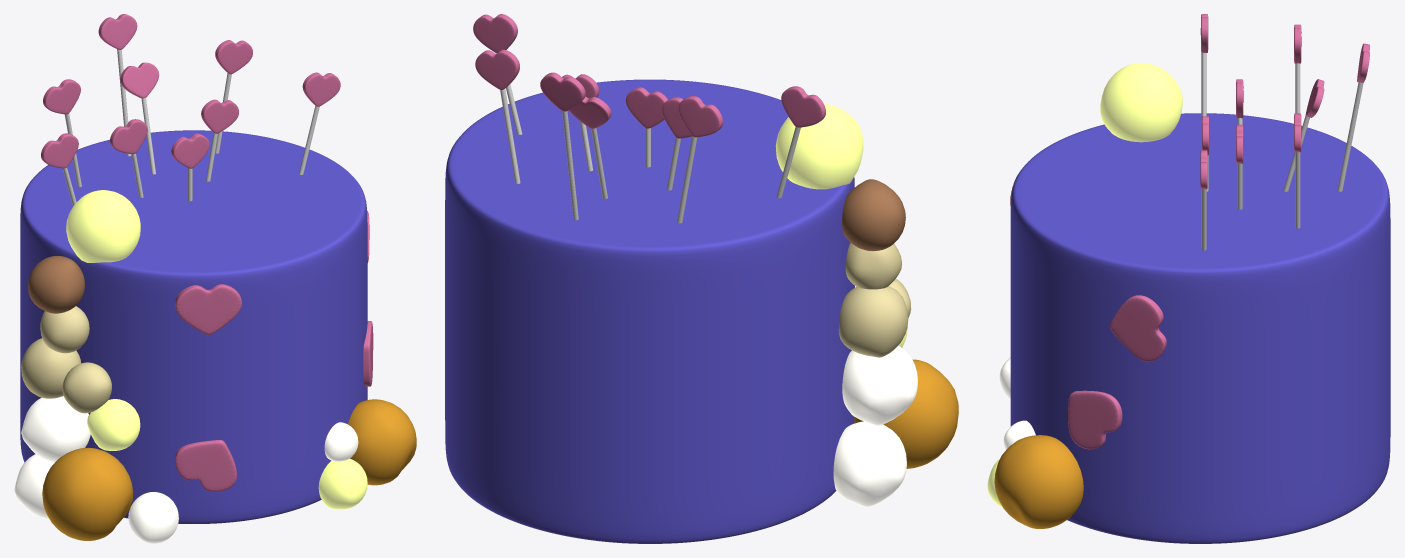
The model's file is Cake_Layer_1_Purple_Topper1_Hearts_NoDrip.glb.
The picture shows the model from 3 angles, left to right: view 1: azimuth 30°, elevation 25°; view 2: azimuth 150°, elevation 25°; view 3: azimuth 270°, elevation 25°; orthographic projection. The views are drawn at different scales.
Parts seen in each view (by area): view 1: Circle.002, Sphere, Sphere.015, Sphere.026, Sphere.002, Sphere.006, Star.003, Star.002, Sphere.005, Sphere.003, Sphere.001, Sphere.025 (+14 smaller); view 2: Circle.002, Sphere.015, Sphere.013, Sphere.002, Sphere, Sphere.005, Sphere.006, Sphere.010, Star.005, Star.006, Star.009, Star.014 (+5 smaller); view 3: Circle.002, Sphere.026, Sphere.015, Star.001, Star.004, Cylinder.049, Sphere.027.
Boxes of the visible parts, x1,y1,x2,y2 form: Circle.002: (20, 130, 367, 523); Sphere: (42, 447, 132, 540); Sphere.015: (66, 190, 140, 262); Sphere.026: (348, 399, 416, 485); Sphere.002: (21, 396, 90, 462); Sphere.006: (28, 256, 84, 313); Star.003: (175, 284, 241, 334); Star.002: (175, 440, 236, 491); Sphere.005: (21, 338, 80, 398); Sphere.003: (87, 399, 140, 450); Sphere.001: (128, 492, 178, 543); Sphere.025: (318, 458, 367, 509); Circle.002: (445, 79, 854, 543); Sphere.015: (775, 104, 863, 189); Sphere.013: (833, 421, 906, 507); Sphere.002: (842, 345, 917, 425); Sphere: (854, 359, 958, 468); Sphere.005: (838, 286, 908, 357); Sphere.006: (842, 179, 905, 251); Sphere.010: (845, 242, 901, 289); Star.005: (781, 86, 825, 127); Star.006: (678, 96, 723, 137); Star.009: (475, 49, 519, 90); Star.014: (473, 14, 517, 53); Circle.002: (1010, 113, 1390, 543); Sphere.026: (994, 435, 1083, 528); Sphere.015: (1100, 63, 1182, 142); Star.001: (1110, 295, 1166, 362); Star.004: (1068, 390, 1122, 449); Cylinder.049: (1337, 82, 1363, 191); Sphere.027: (1003, 420, 1035, 449).
Bounding box in the file's own units: 0.1763 × 0.1867 × 0.1591.
